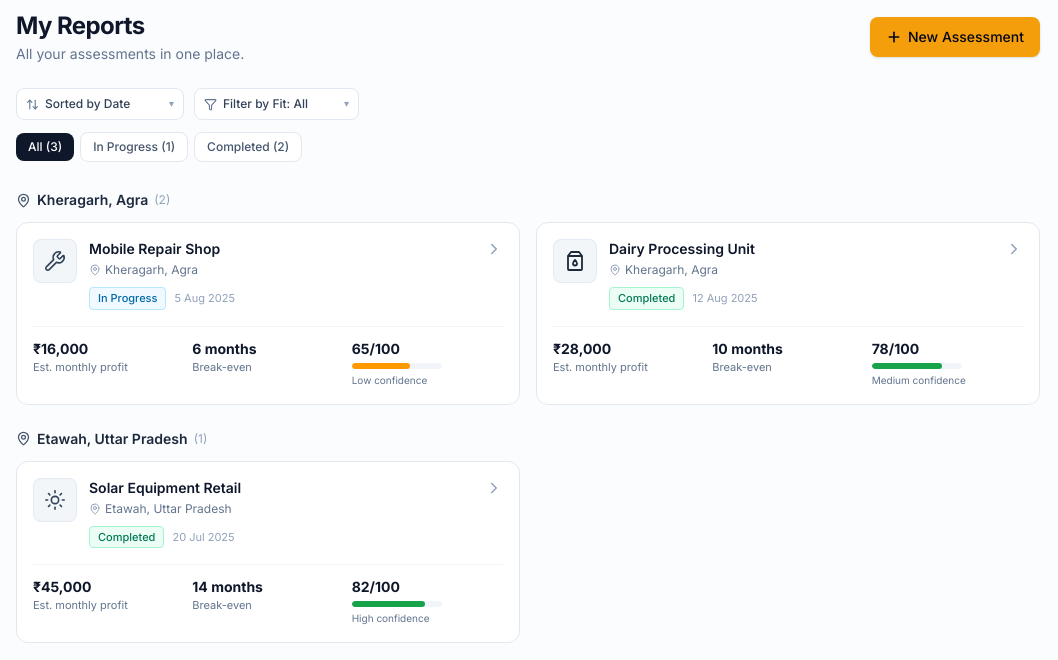
Test case: MyReportsScreen › filters reports when clicking status tabs
# Click 'Completed' tab
Click the button "Completed (2)".
click(248, 147)  # box [194,132,302,162]
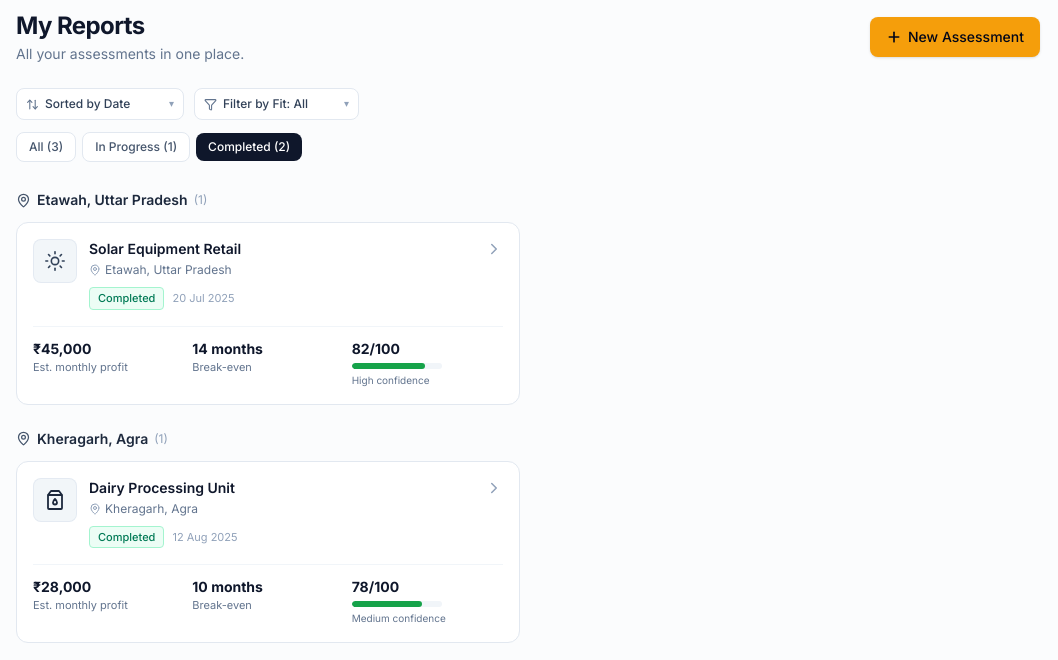
Expected: the heading "Dairy Processing Unit" is shown, [89,478,235,498]
Now the link "Mobile Repair Shop" is gone
